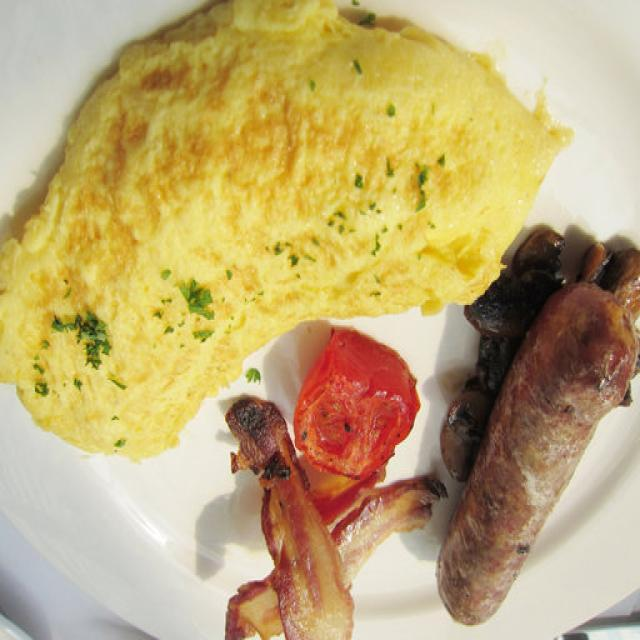telur_ayam_dadar: (0, 0, 501, 324)
